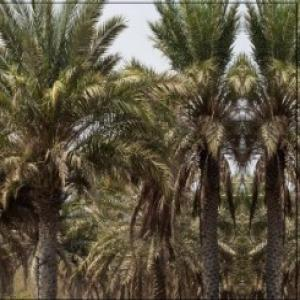palm tree: (0, 0, 167, 299), (242, 0, 299, 299)
